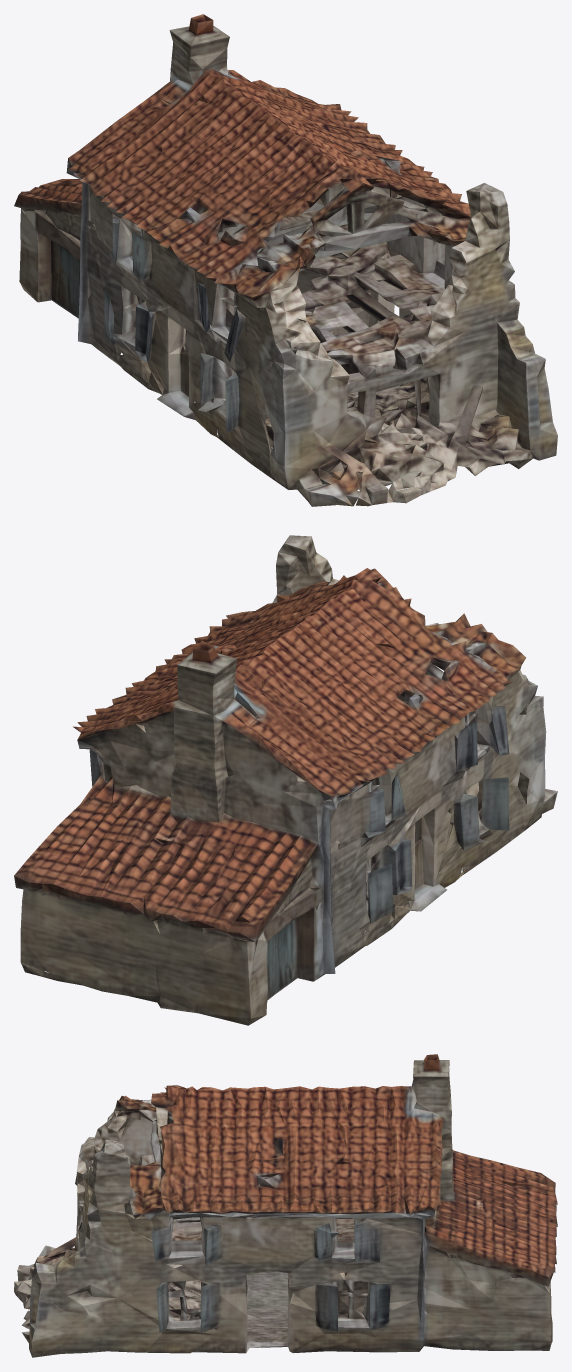
File: farmhouse.obj
3 views of the same model, one above another, from view 1: azimuth 30°, elevation 25°; view 2: azimuth 150°, elevation 25°; view 3: azimuth 270°, elevation 25° (orthographic). The views are drawn at different scales.
Visible parts, largest first — view 1: farmhouse; view 2: farmhouse; view 3: farmhouse.
Part boxes in pixels (<box>): farmhouse: <box>14,14,557,506</box>; farmhouse: <box>14,535,557,1025</box>; farmhouse: <box>14,1054,557,1357</box>.
Size of the model in its own units: 6.66 by 6.68 by 13.
1 material, 1 textured.
